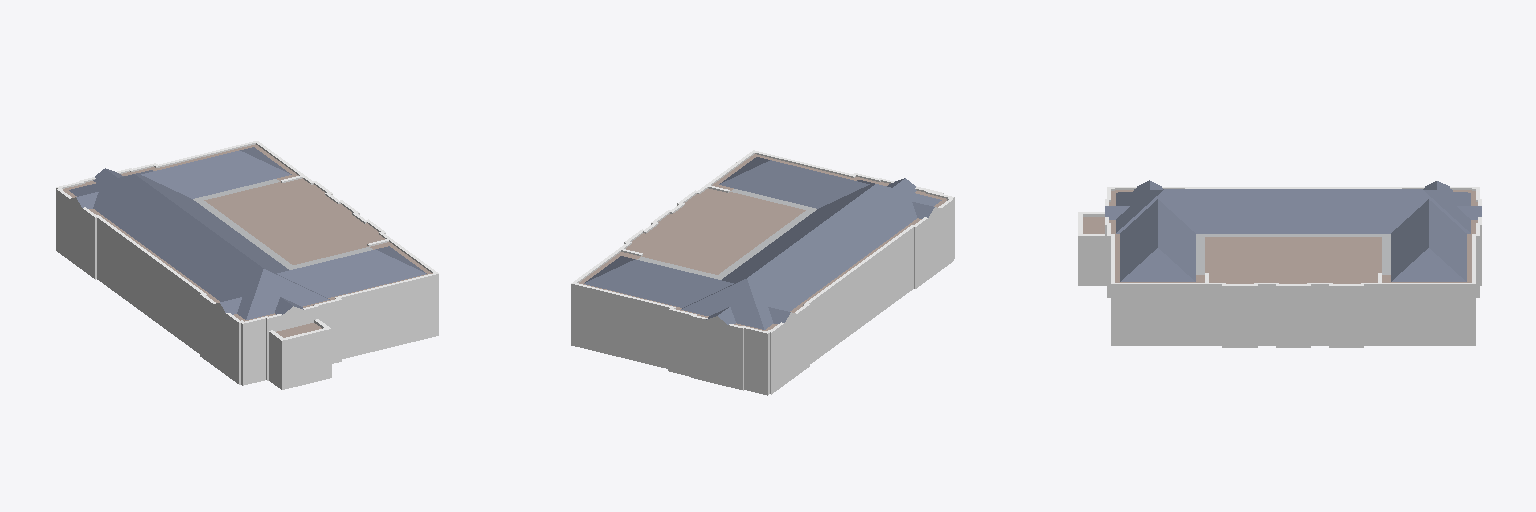
The model's file is Lenoir.obj.
3 renders of one model, left to right at view 1: azimuth 30°, elevation 25°; view 2: azimuth 150°, elevation 25°; view 3: azimuth 270°, elevation 25°, orthographic.
Parts seen in each view (by area): view 1: SketchUp ID18, SketchUp, SketchUp ID26, SketchUp ID40, SketchUp ID34; view 2: SketchUp ID18, SketchUp, SketchUp ID26, SketchUp ID40, SketchUp ID48; view 3: SketchUp ID18, SketchUp, SketchUp ID26, SketchUp ID40.
Boxes of the visible parts, x1=… form: SketchUp ID18: x1=56, y1=141, x2=438, y2=389; SketchUp: x1=69, y1=147, x2=426, y2=319; SketchUp ID26: x1=204, y1=178, x2=384, y2=264; SketchUp ID40: x1=193, y1=179, x2=372, y2=269; SketchUp ID34: x1=121, y1=144, x2=298, y2=181; SketchUp ID18: x1=571, y1=150, x2=954, y2=395; SketchUp: x1=584, y1=157, x2=941, y2=329; SketchUp ID26: x1=626, y1=188, x2=805, y2=274; SketchUp ID40: x1=637, y1=189, x2=816, y2=279; SketchUp ID48: x1=712, y1=154, x2=888, y2=190; SketchUp ID18: x1=1078, y1=187, x2=1481, y2=347; SketchUp: x1=1105, y1=180, x2=1481, y2=281; SketchUp ID26: x1=1205, y1=237, x2=1381, y2=283; SketchUp ID40: x1=1196, y1=234, x2=1390, y2=274.
Size of the model in its own units: 7.2 by 2.85 by 12.4.